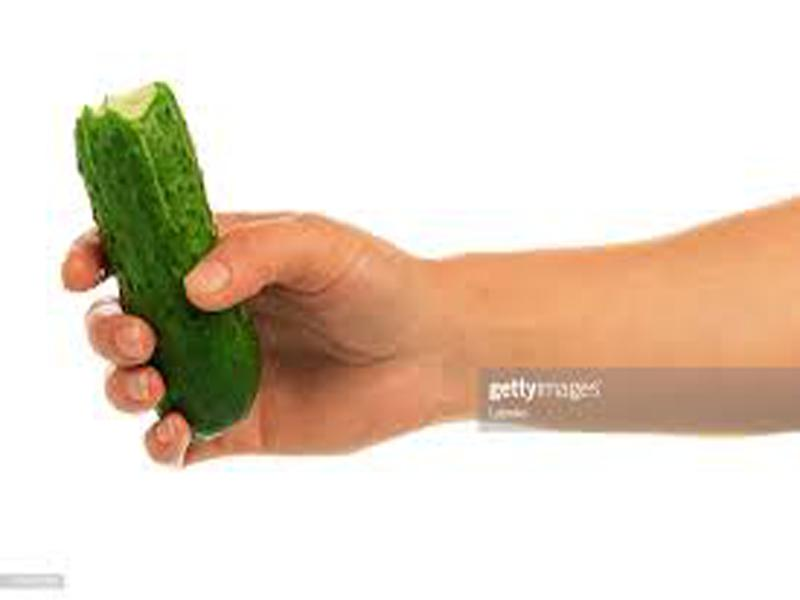Cucumber: (76, 82, 259, 436)
